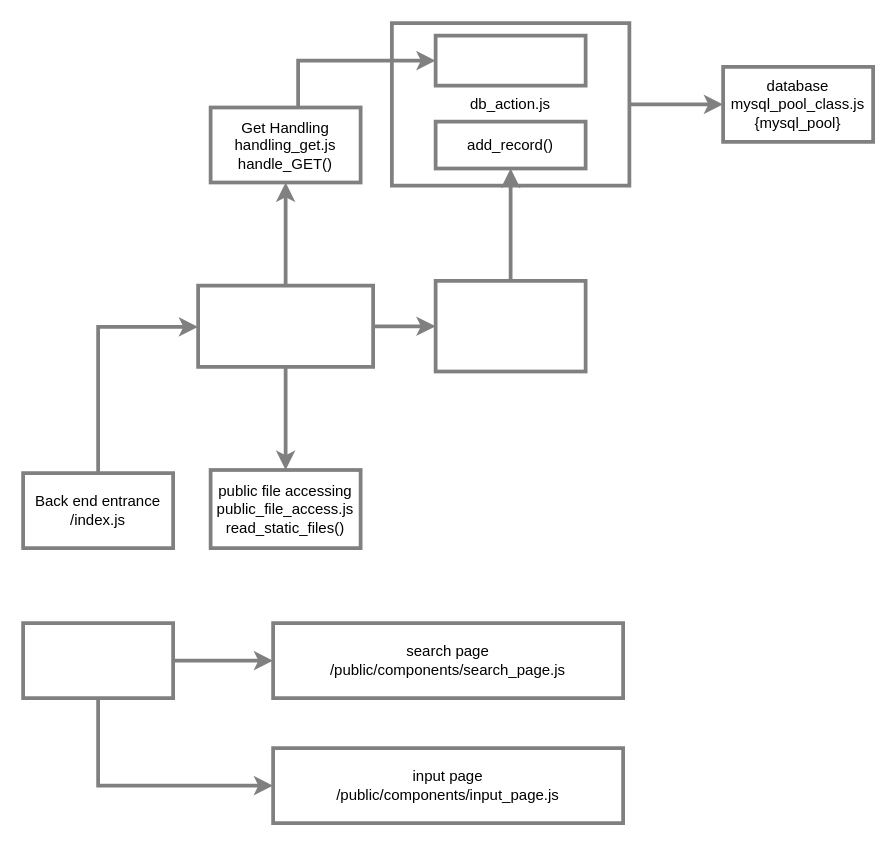
Image size: 896x846. Some labels were removed from this diagram. The shapes that lost their labels are listed below. From the top down, each one's centre as x and y in pixels, then its label:
the point at 510,60: read_record()
the point at 285,325: router.js router.OnRequest()
the point at 510,325: Post Handling handling_post.js handle_POST()
the point at 97,660: Front end entrance /public/index.html
